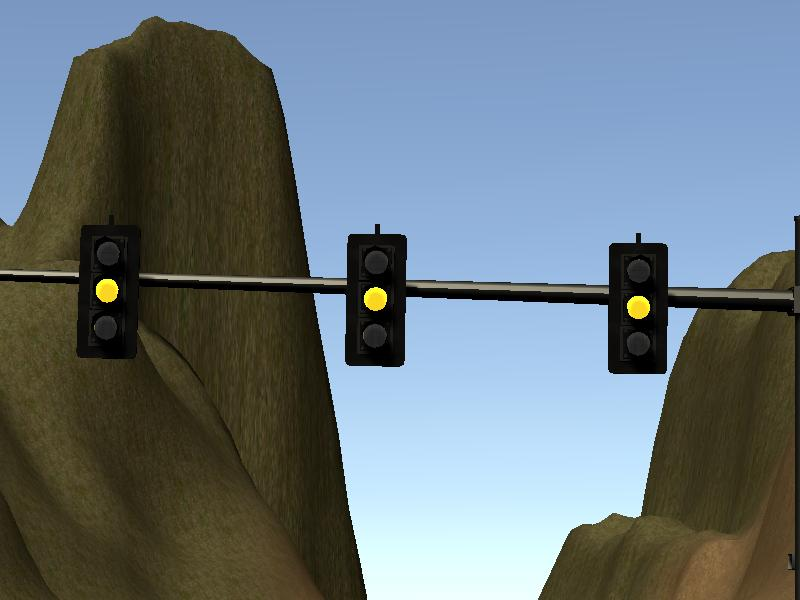Yellow: (347, 233, 405, 367), (79, 226, 137, 358), (609, 243, 666, 374)
